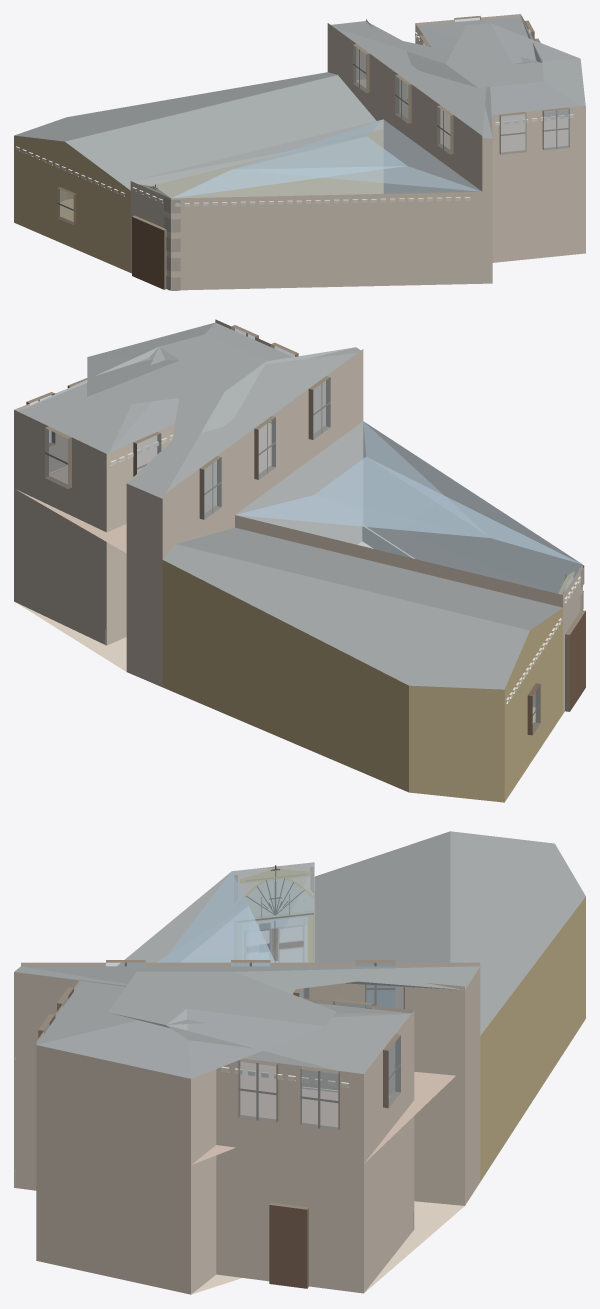
3 views of the same model, one above another, from view 1: azimuth 30°, elevation 25°; view 2: azimuth 150°, elevation 25°; view 3: azimuth 270°, elevation 25° (orthographic). The views are drawn at different scales.
Visible parts, largest first — view 1: W-39-1.camli_vitre_passage, W-39-1.masonry_side_narthex, W-39-1.wooden_church_edge_annex; view 2: W-39-1.masonry_side_narthex, W-39-1.wooden_church_edge_annex, W-39-1.camli_vitre_passage; view 3: W-39-1.masonry_side_narthex, W-39-1.wooden_church_edge_annex, W-39-1.camli_vitre_passage.
Part boxes in pixels (box(x1,y1,x2,y2)): W-39-1.camli_vitre_passage: box(130, 119, 482, 290); W-39-1.masonry_side_narthex: box(327, 14, 585, 283); W-39-1.wooden_church_edge_annex: box(14, 72, 383, 272); W-39-1.masonry_side_narthex: box(14, 319, 363, 687); W-39-1.wooden_church_edge_annex: box(162, 527, 562, 802); W-39-1.camli_vitre_passage: box(235, 421, 585, 713); W-39-1.masonry_side_narthex: box(14, 960, 480, 1294); W-39-1.wooden_church_edge_annex: box(314, 831, 585, 1181); W-39-1.camli_vitre_passage: box(117, 862, 314, 966).
Size of what is drawn, in the model's own units: 19.21 by 6.55 by 14.41.
